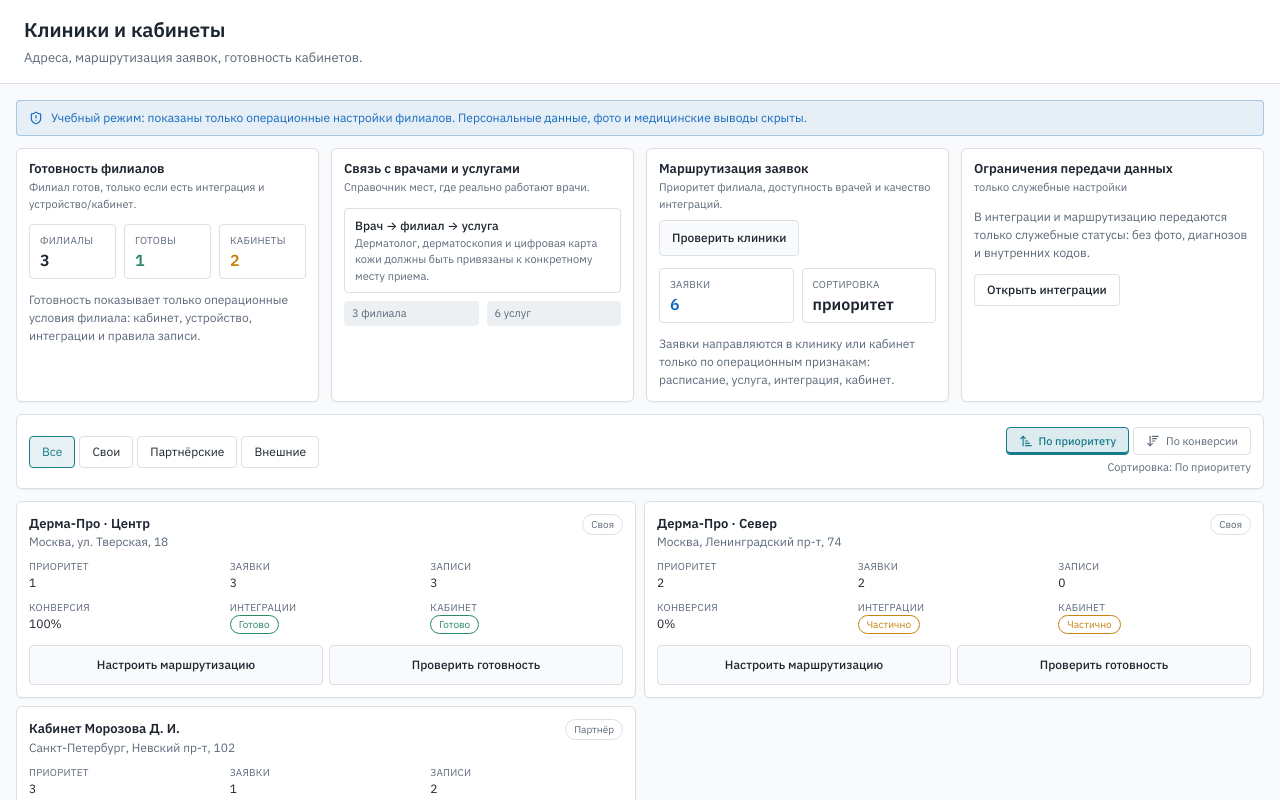
Test: Admin clinic core pages — render & safety › AdminClinicsPage shows empty state when filter has no matches
The width and height of the screenshot is (1280, 800).
Click the tab "Внешние".
click(280, 452)  # box x1=241 y1=436 x2=319 y2=468
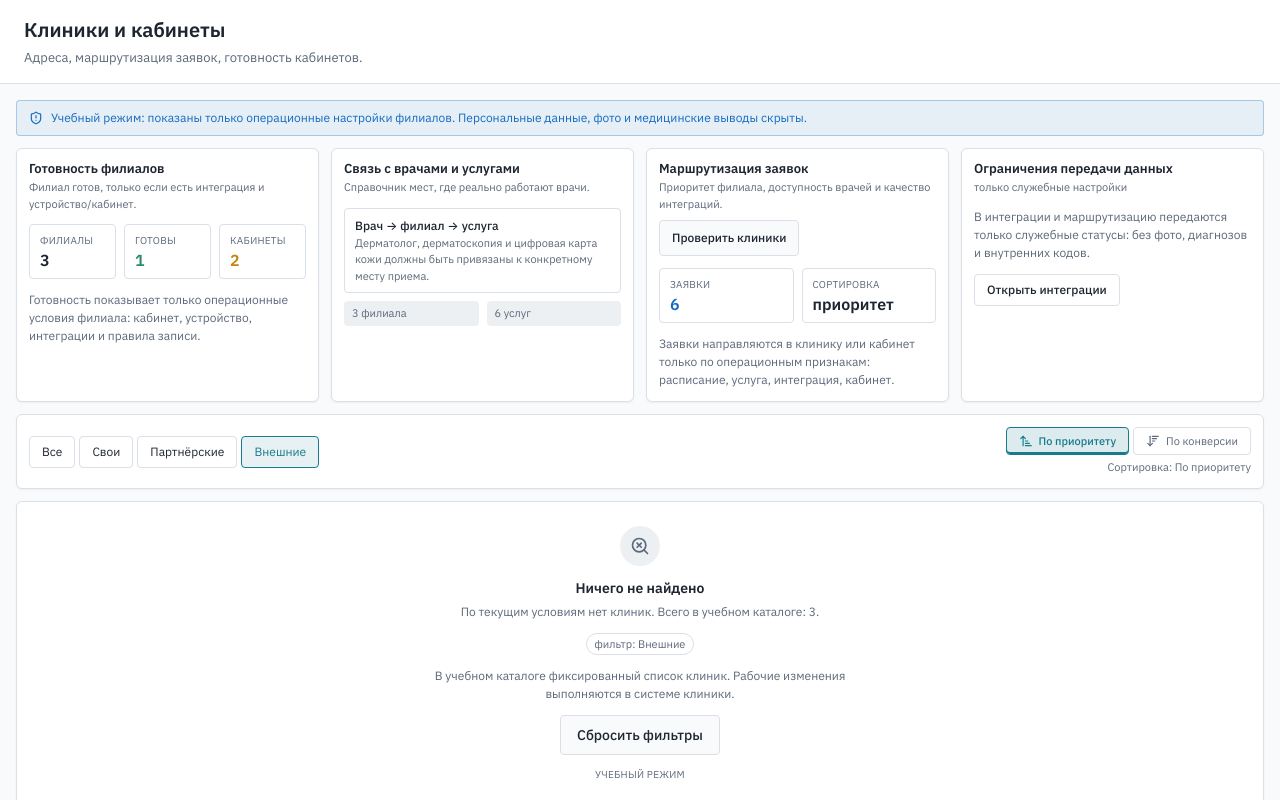
Result: the text "Ничего не найдено" is shown at x1=576 y1=579 x2=704 y2=597
Result: the list item "фильтр: Внешние" is shown at x1=586 y1=633 x2=694 y2=655
